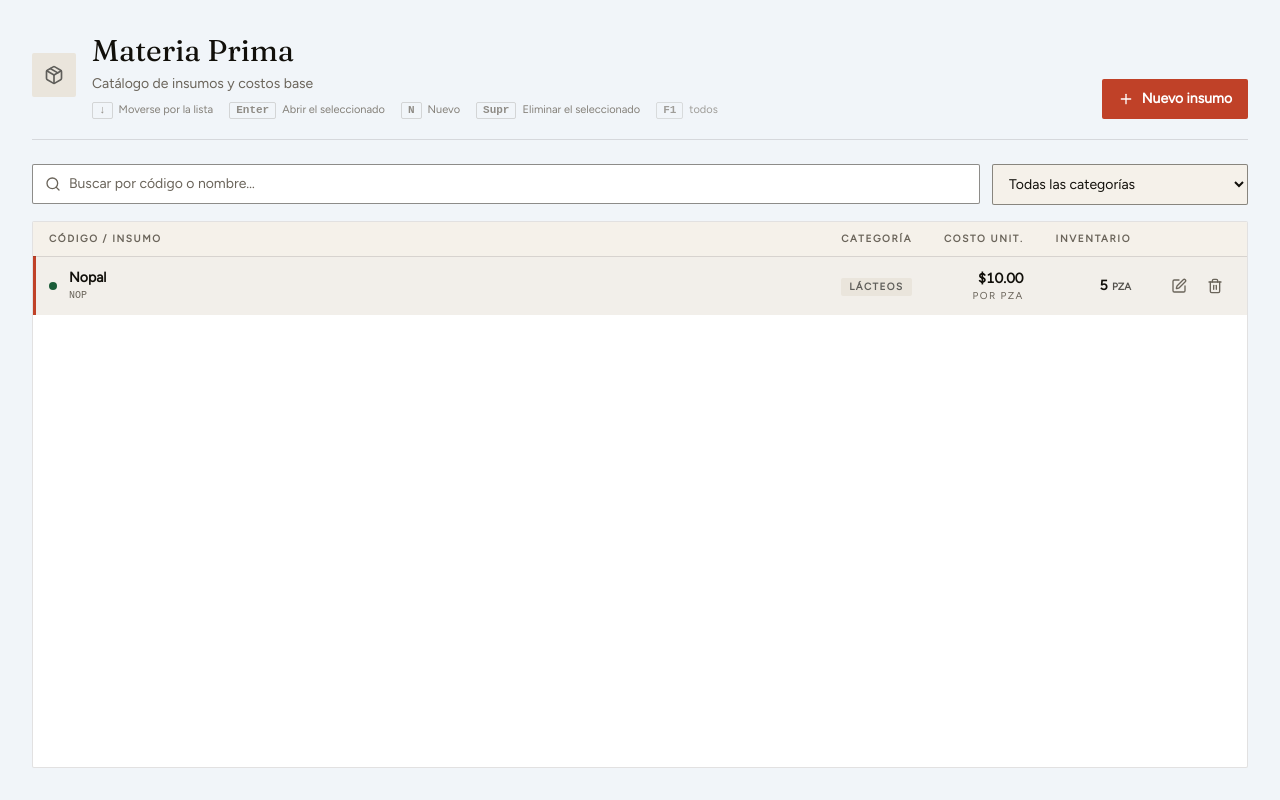
IngredientesScreen · de dónde salen unidades y categorías › un insumo nuevo NO llega con la categoría ya elegida
Click the button "Nuevo insumo": click(1175, 98) x1=1102 y1=78 x2=1248 y2=118
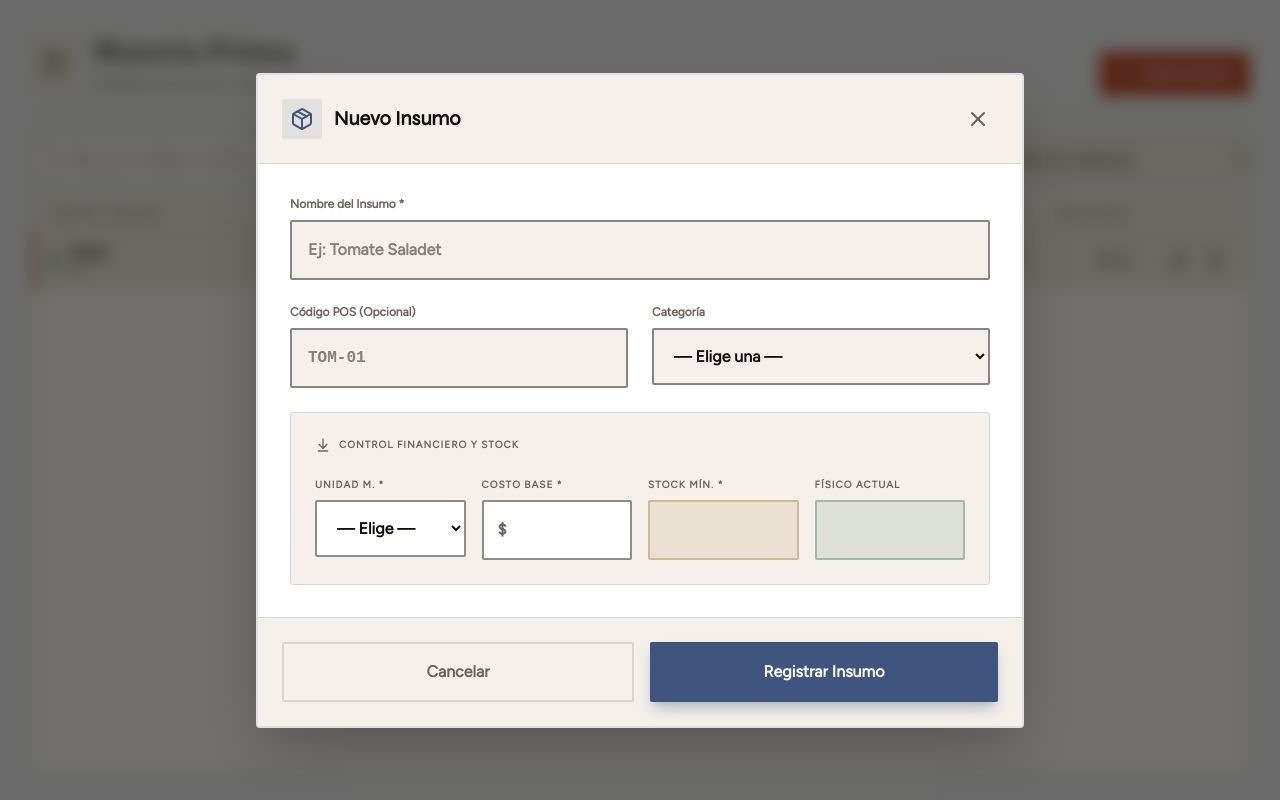
Check: the dropdown named "Categoría del insumo" shows "— Elige una —", box x1=652 y1=328 x2=990 y2=384
Check: the dropdown named "Unidad de medida" shows "— Elige —", box x1=315 y1=500 x2=466 y2=556
